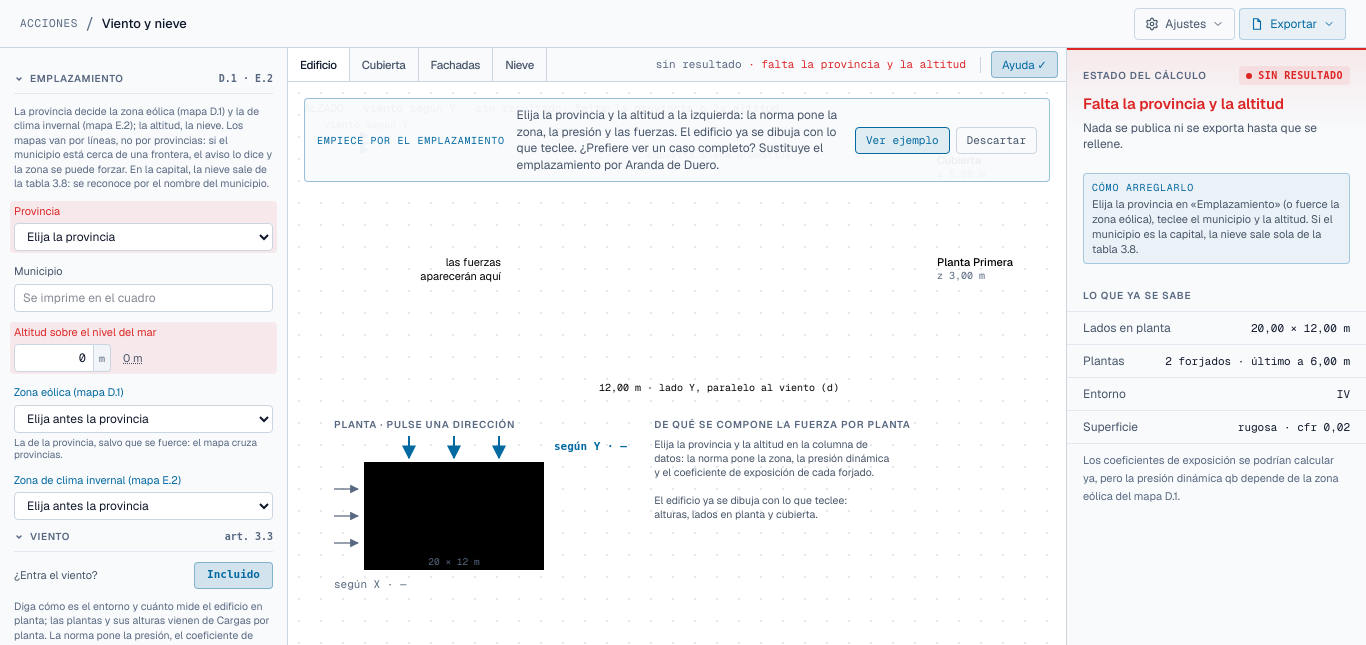
Test case: la capital sale del municipio, no de una casilla › teclear «Madrid» cambia la tabla de sk, lo dice, y se puede volver a la E.2
Select "Madrid" in the dropdown named "Provincia" at x=144, y=237, box 14,223 -> 273,251
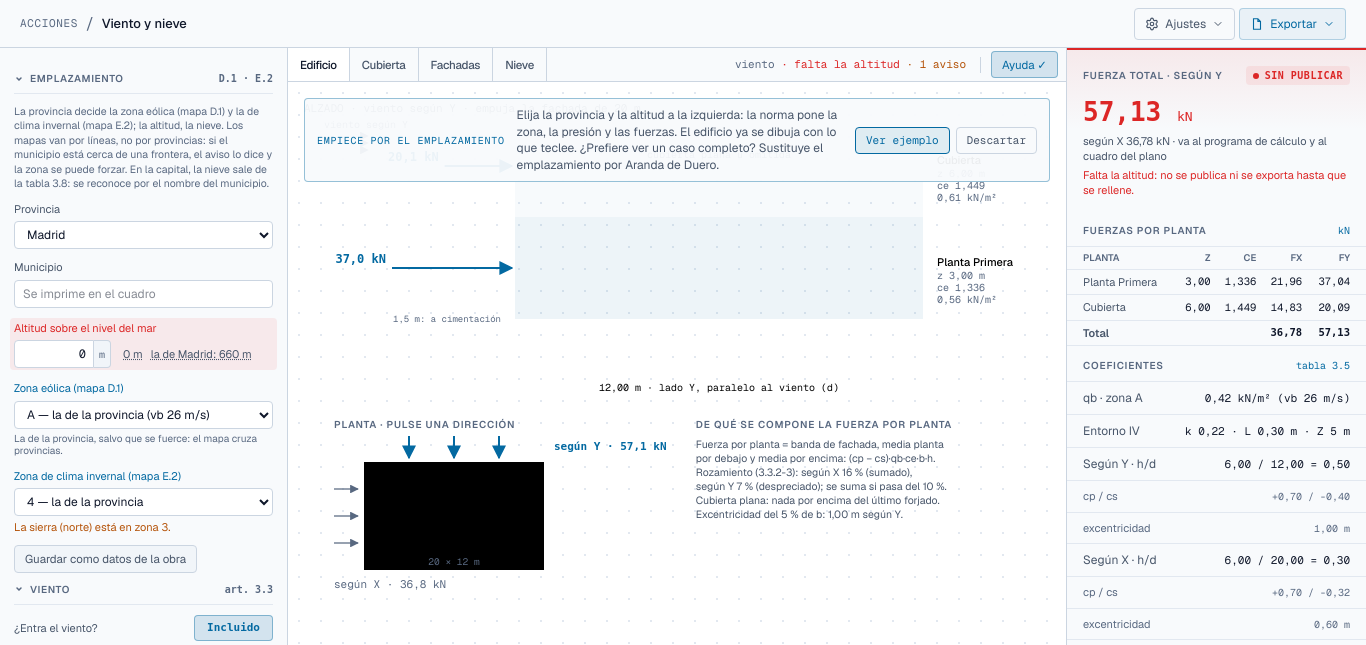
Replace the text in the field named "Altitud" with "660" at x=54, y=354, box 14,340 -> 94,368
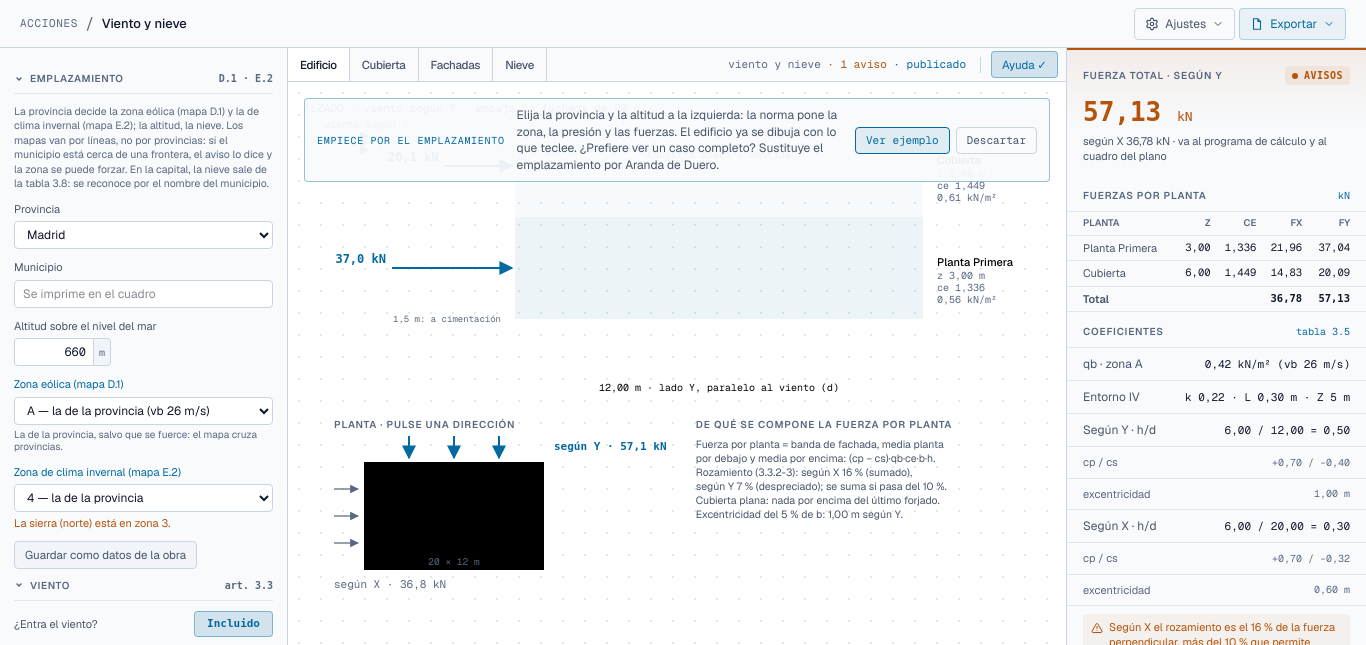
Click the button "Nieve" at x=520, y=65, box 493,48 -> 547,81
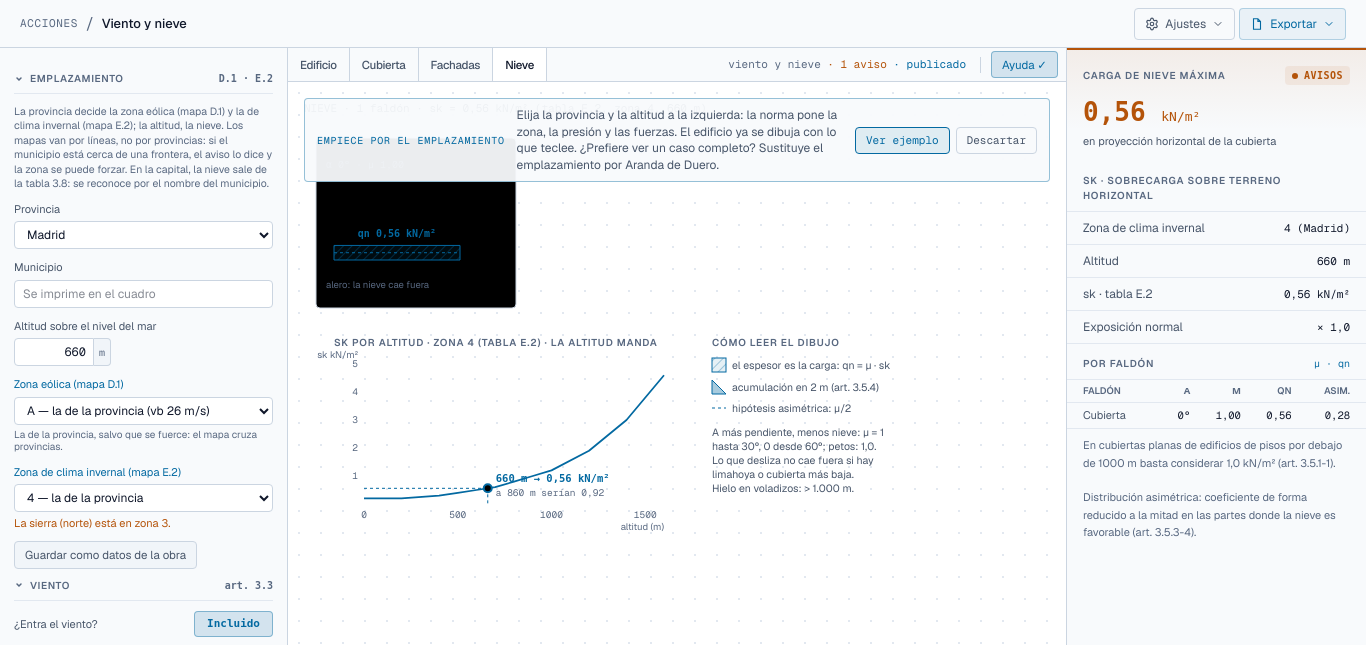
Expected: the text "sk · tabla E.2" is shown, 1083,285 -> 1153,303
Expected: the text "0,56 kN/m²" is shown, 1284,286 -> 1350,302
Type "Madrid" into the field named "Municipio" at x=144, y=294, box 14,280 -> 273,308
(page scrolled)
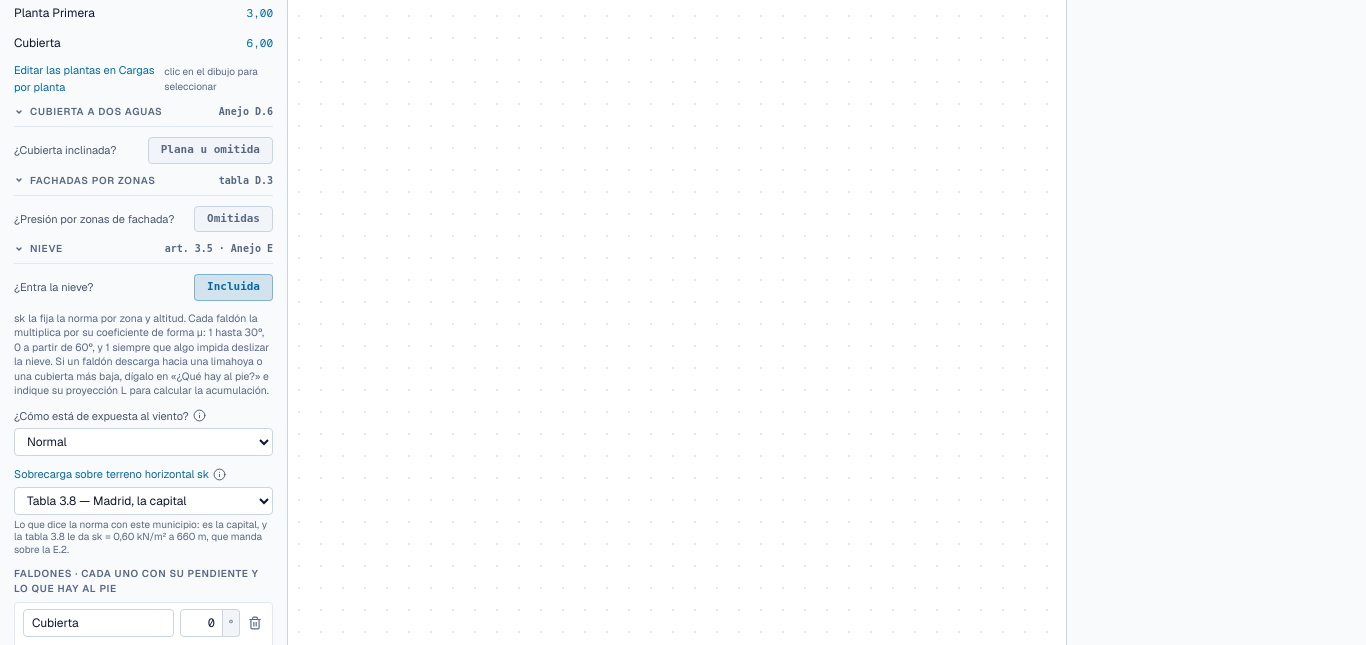
Select "Tabla E.2 — zona 4 a 660 m, aunque sea la capital" in the dropdown named "Origen de sk" at x=144, y=501, box 14,487 -> 273,515
(page scrolled)
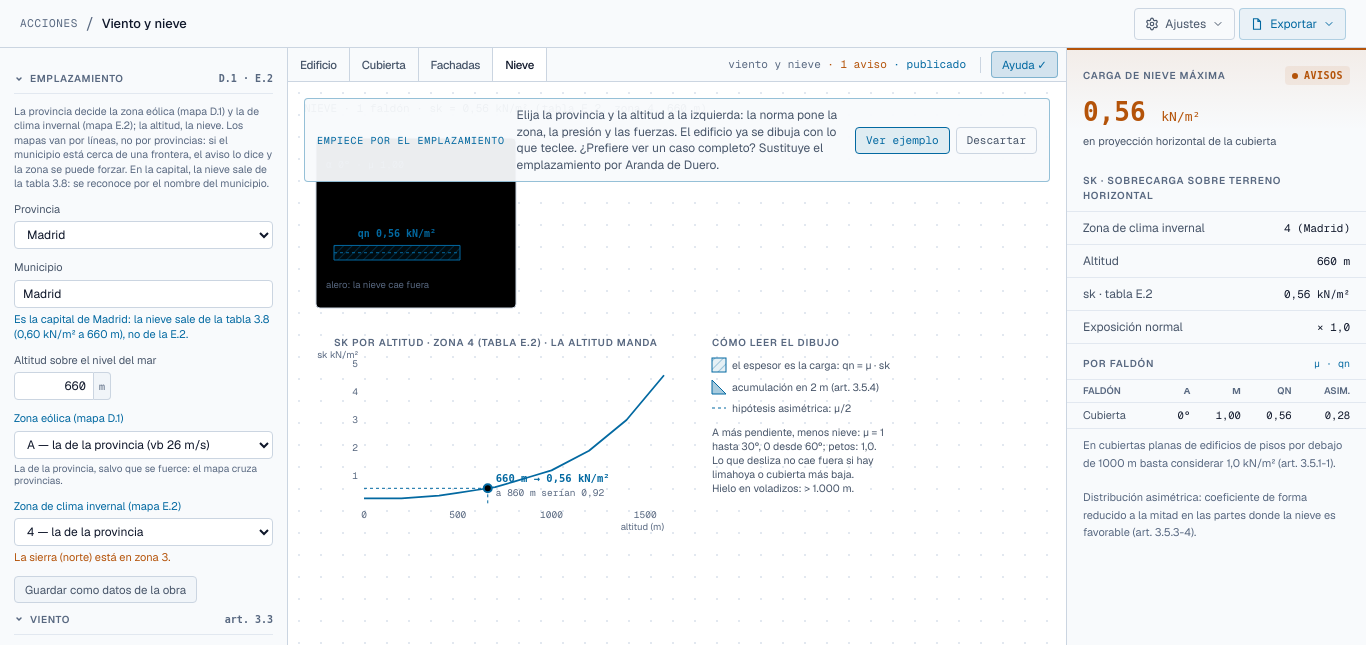
Expected: the text "sk · tabla E.2" is shown, 1083,285 -> 1153,303
Expected: the text "0,56 kN/m²" is shown, 1284,286 -> 1350,302
